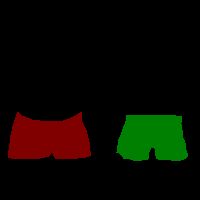mutande: (8, 111, 91, 159), (116, 114, 188, 161)
